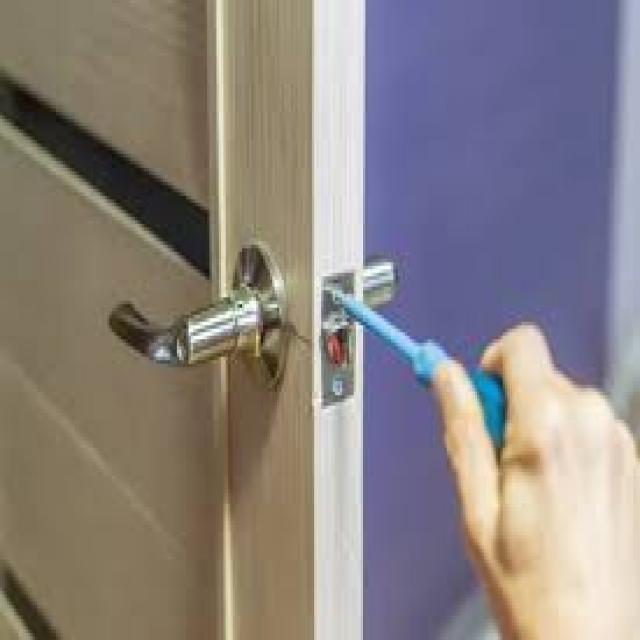screwdriver: (329, 274, 527, 453)
